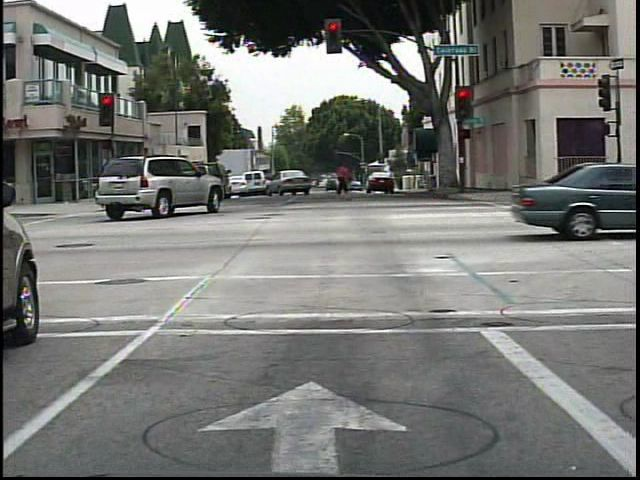person: (331, 157, 358, 207)
